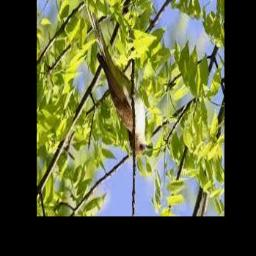Cuckoo: (85, 2, 153, 156)
